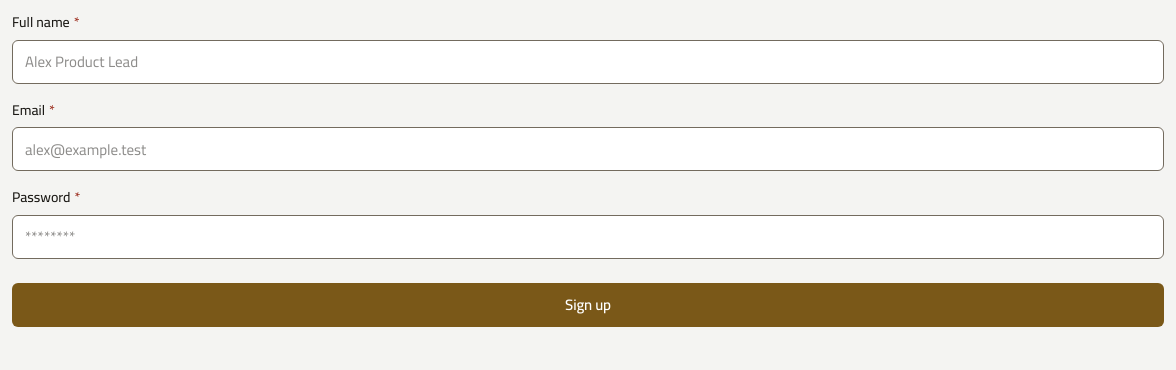
Test: AuthForm Component › shows inline validation error for short password
Type "Valid Name" into the field labelled "Full name*" at (588, 62), box [12,40,1164,84]
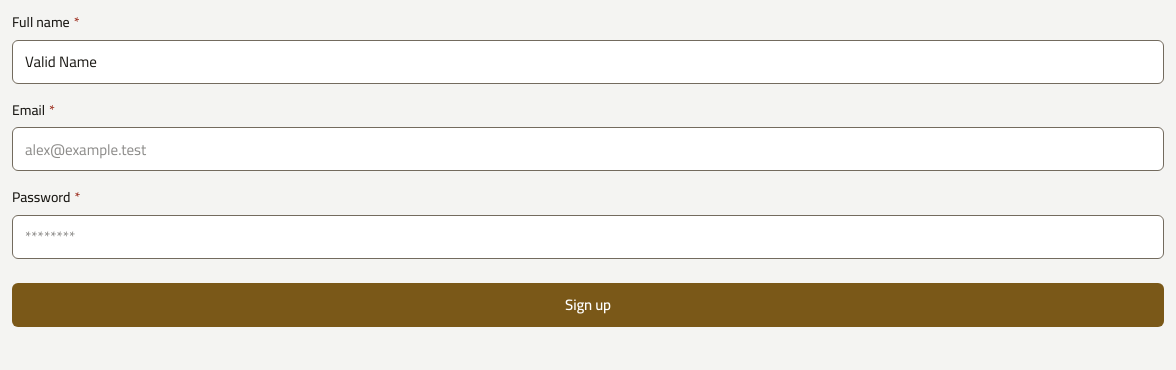
Type "test@example.com" into the field labelled "Email*" at (588, 149), box [12,127,1164,171]
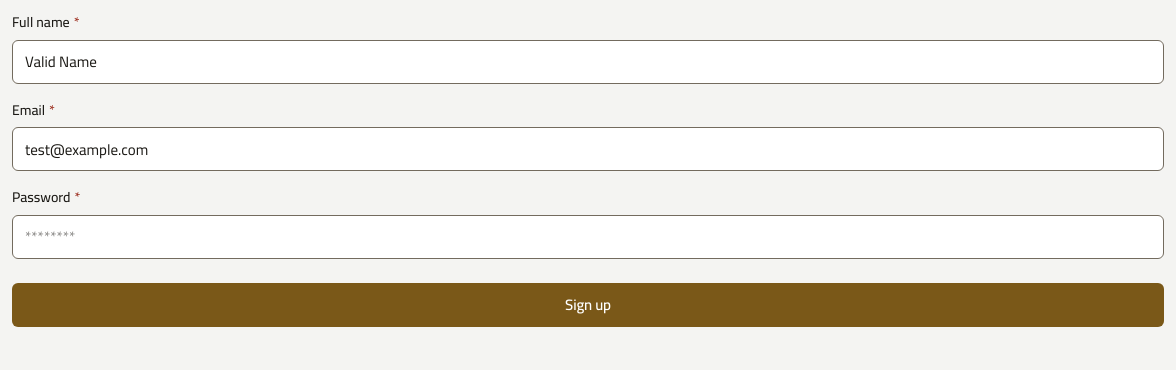
Type "12345" into the password field labelled "Password*" at (588, 237), box [12,215,1164,259]
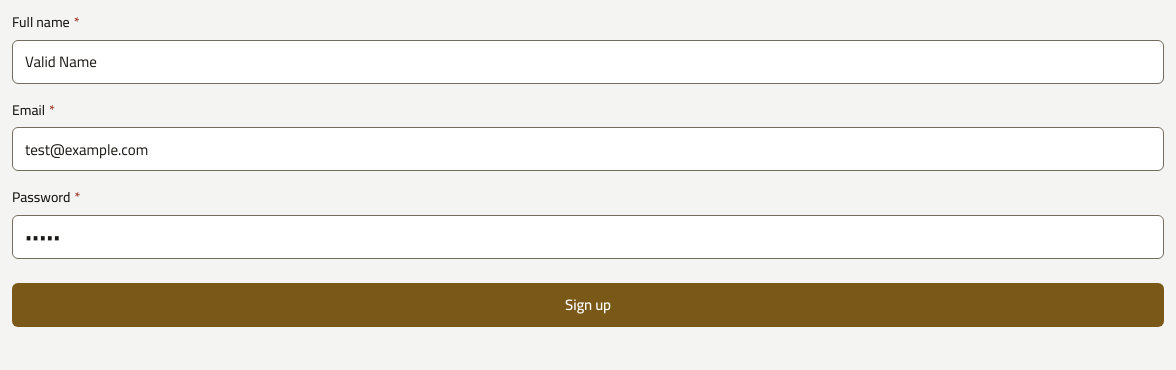
Click the button "Sign up" at (588, 305), box [12,283,1164,327]
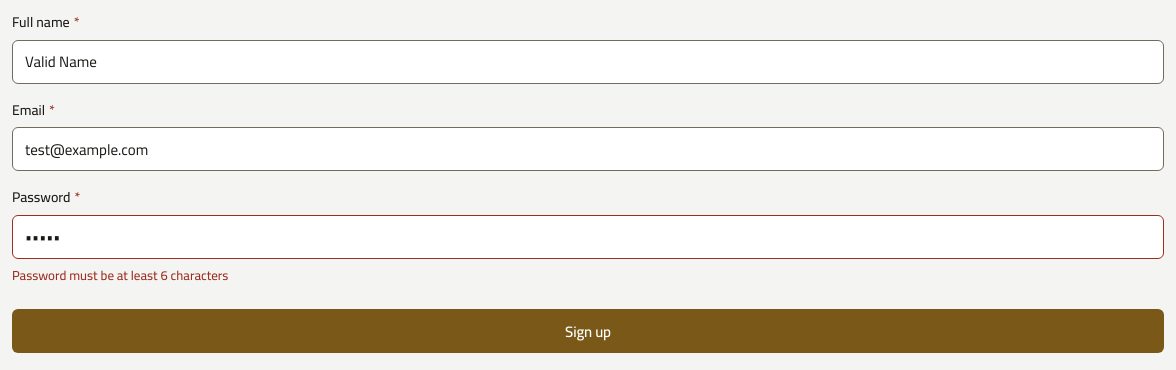
Expected: the text "Password must be at least 6 characters" is shown, [12,263,228,287]
